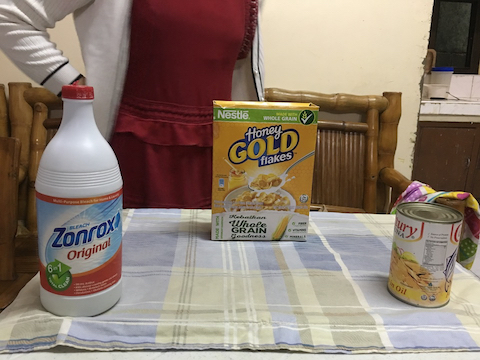bottle: (29, 82, 127, 318)
box: (204, 96, 328, 248)
can: (386, 199, 467, 309)
